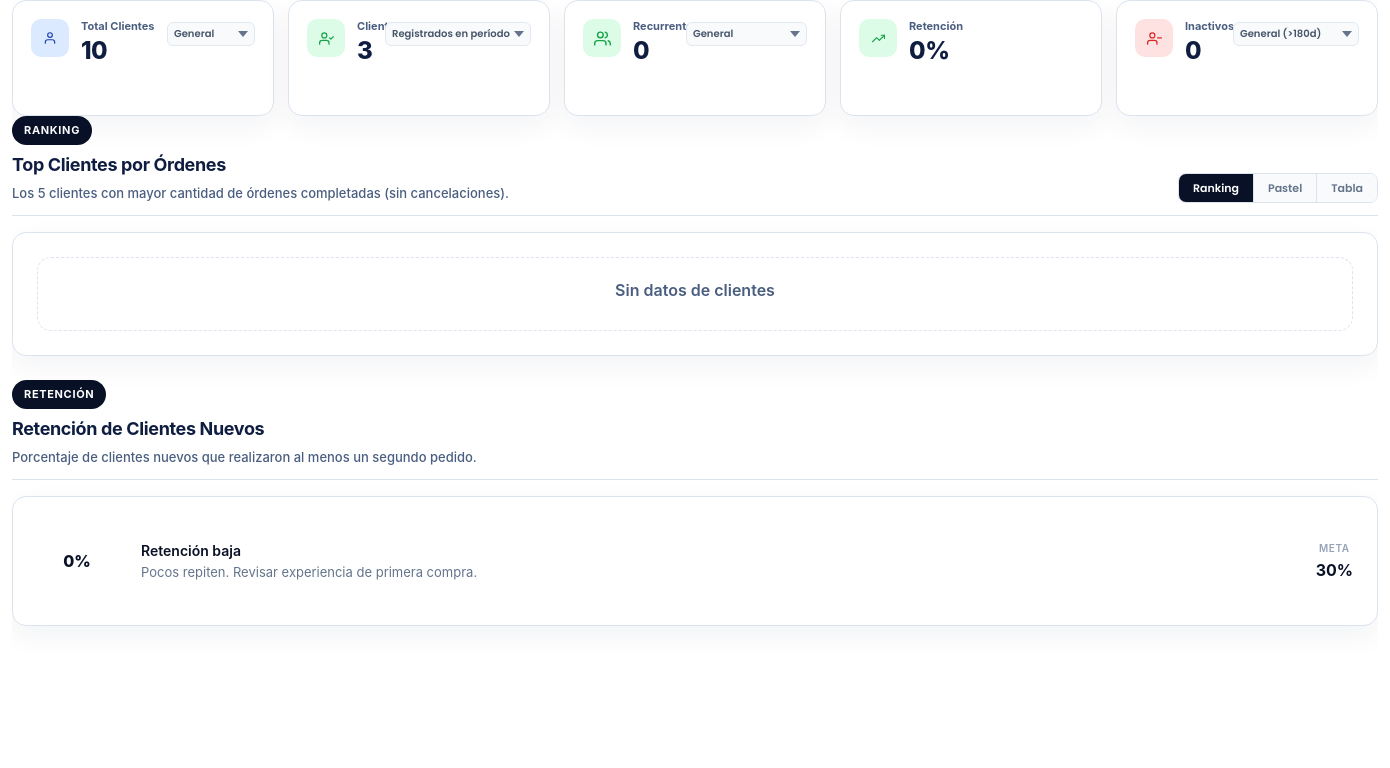
Test: Clientes nuevos KPI › shows only activation counts for clients registered in the selected period
The image size is (1390, 768).
Expected: the element named "Filtro de Clientes Nuevos" shows "3", x1=357 y1=36 x2=372 y2=65
Select "Con primer pedido" in the dropdown named "Filtro de Clientes Nuevos" at (458, 34), box x1=385 y1=22 x2=531 y2=46
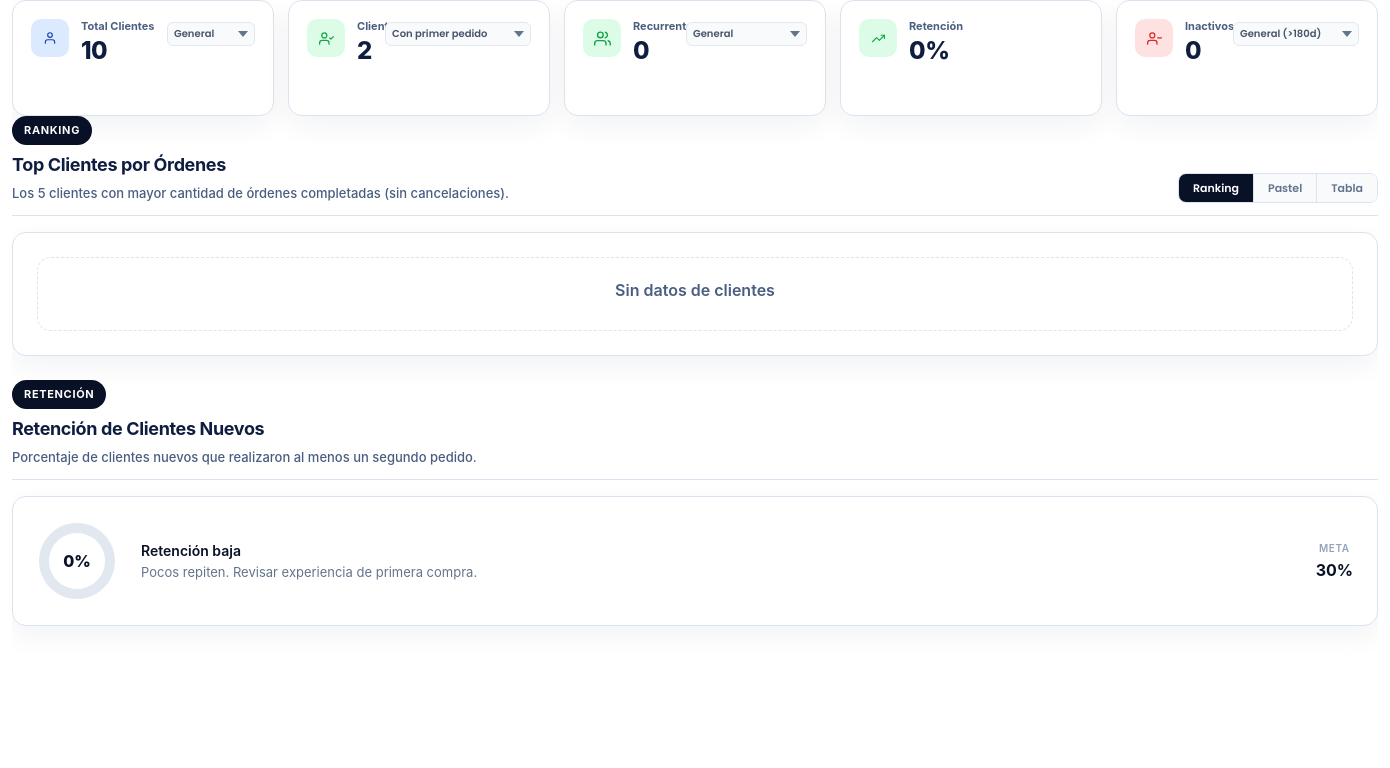
Result: the element named "Filtro de Clientes Nuevos" shows "2" at x1=357 y1=36 x2=372 y2=65
Select "Sin pedido" in the dropdown named "Filtro de Clientes Nuevos" at (458, 34), box x1=385 y1=22 x2=531 y2=46
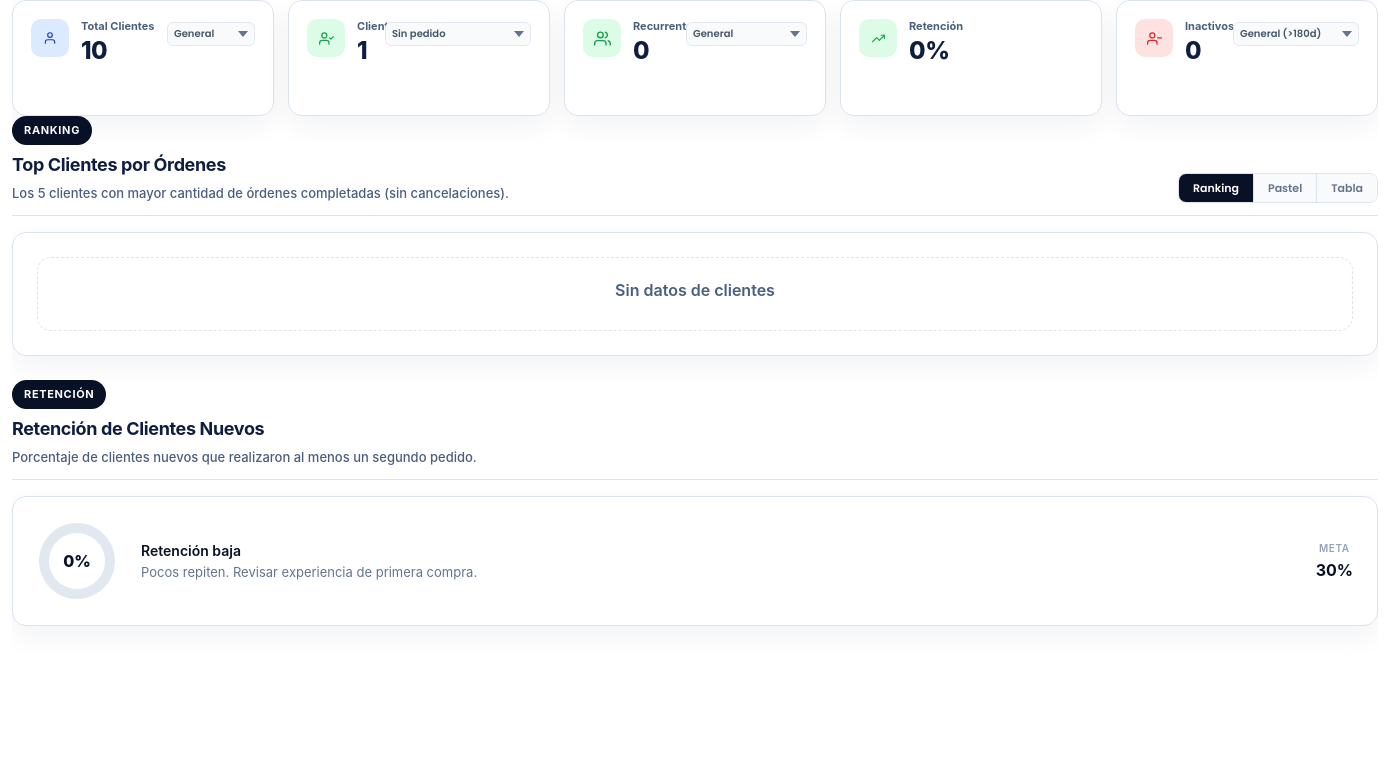
Result: the element named "Filtro de Clientes Nuevos" shows "1" at x1=357 y1=36 x2=367 y2=65
